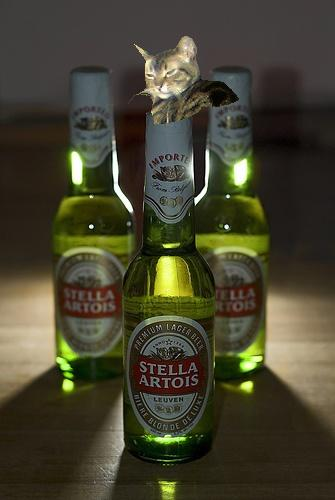tampered: (129, 37, 239, 124)
